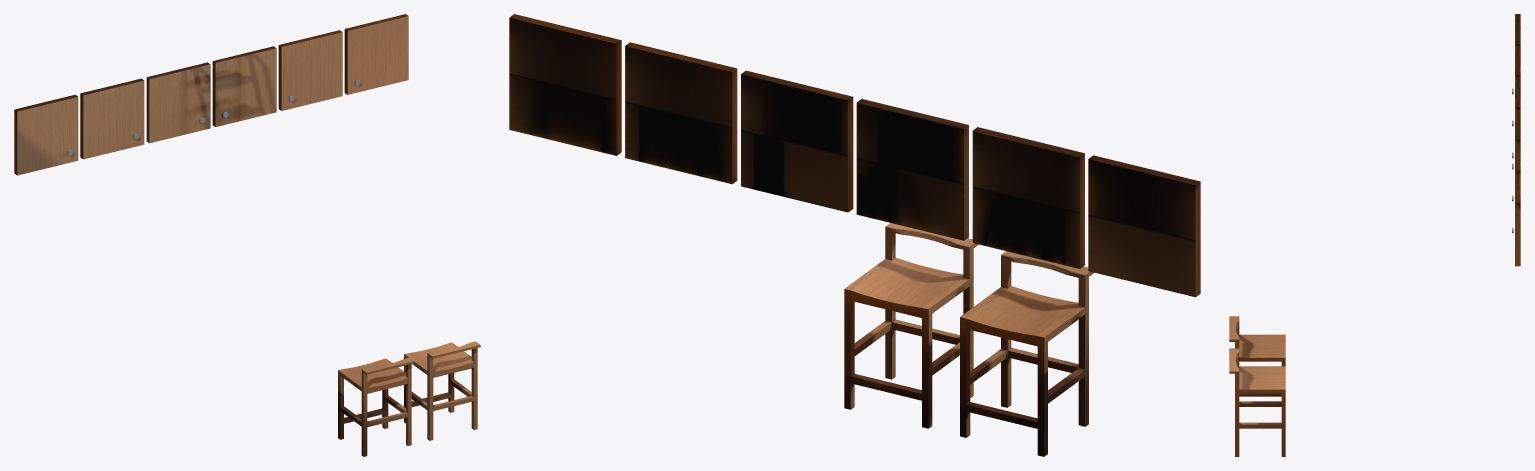
File: Kitchen_Cabinet_Door.glb
3 views of the same model, side by side, from view 1: azimuth 30°, elevation 25°; view 2: azimuth 150°, elevation 25°; view 3: azimuth 270°, elevation 25° (orthographic). The views are drawn at different scales.
Parts seen in each view (by area): view 1: Kitchen_Cabinet_Door; view 2: Kitchen_Cabinet_Door; view 3: Kitchen_Cabinet_Door.
Part boxes in pixels (x1,y1,x2,y2): Kitchen_Cabinet_Door: (14,14,480,456); Kitchen_Cabinet_Door: (509,14,1200,456); Kitchen_Cabinet_Door: (1229,14,1520,456).
Bounding box in the file's own units: 1.6 × 1.14 × 1.04.
2 materials, 1 textured.
